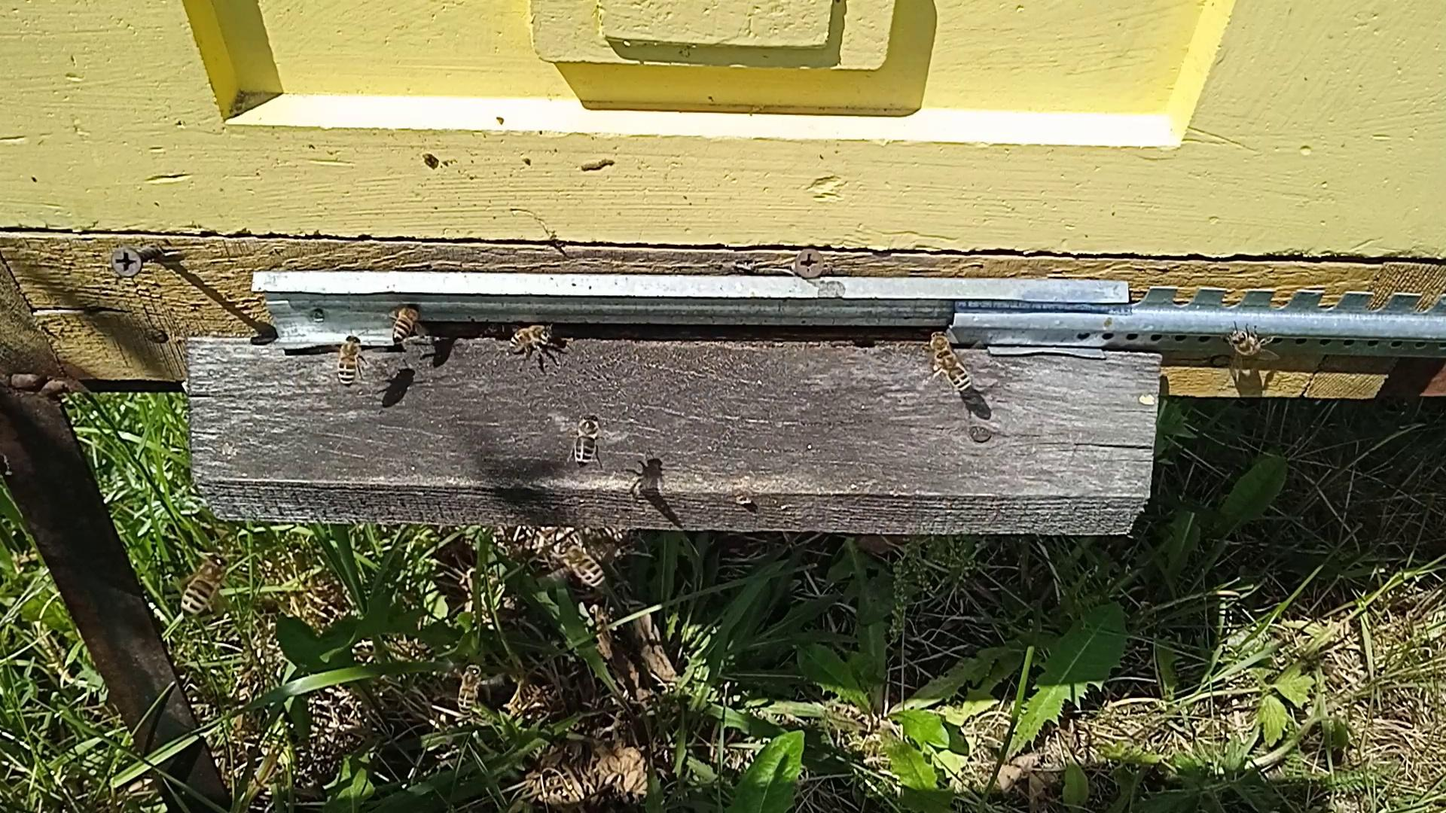worker-bee: (180, 552, 230, 617), (551, 534, 607, 589), (570, 413, 602, 468), (507, 322, 559, 355), (336, 334, 365, 388), (934, 350, 972, 391), (390, 301, 424, 343), (456, 665, 483, 714), (1225, 329, 1268, 358), (929, 330, 952, 370)
